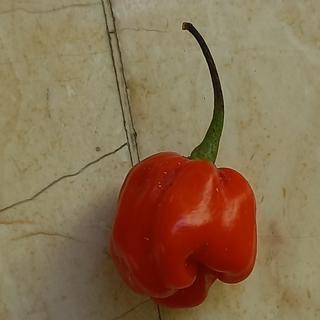Grade-B: (106, 143, 261, 311)
